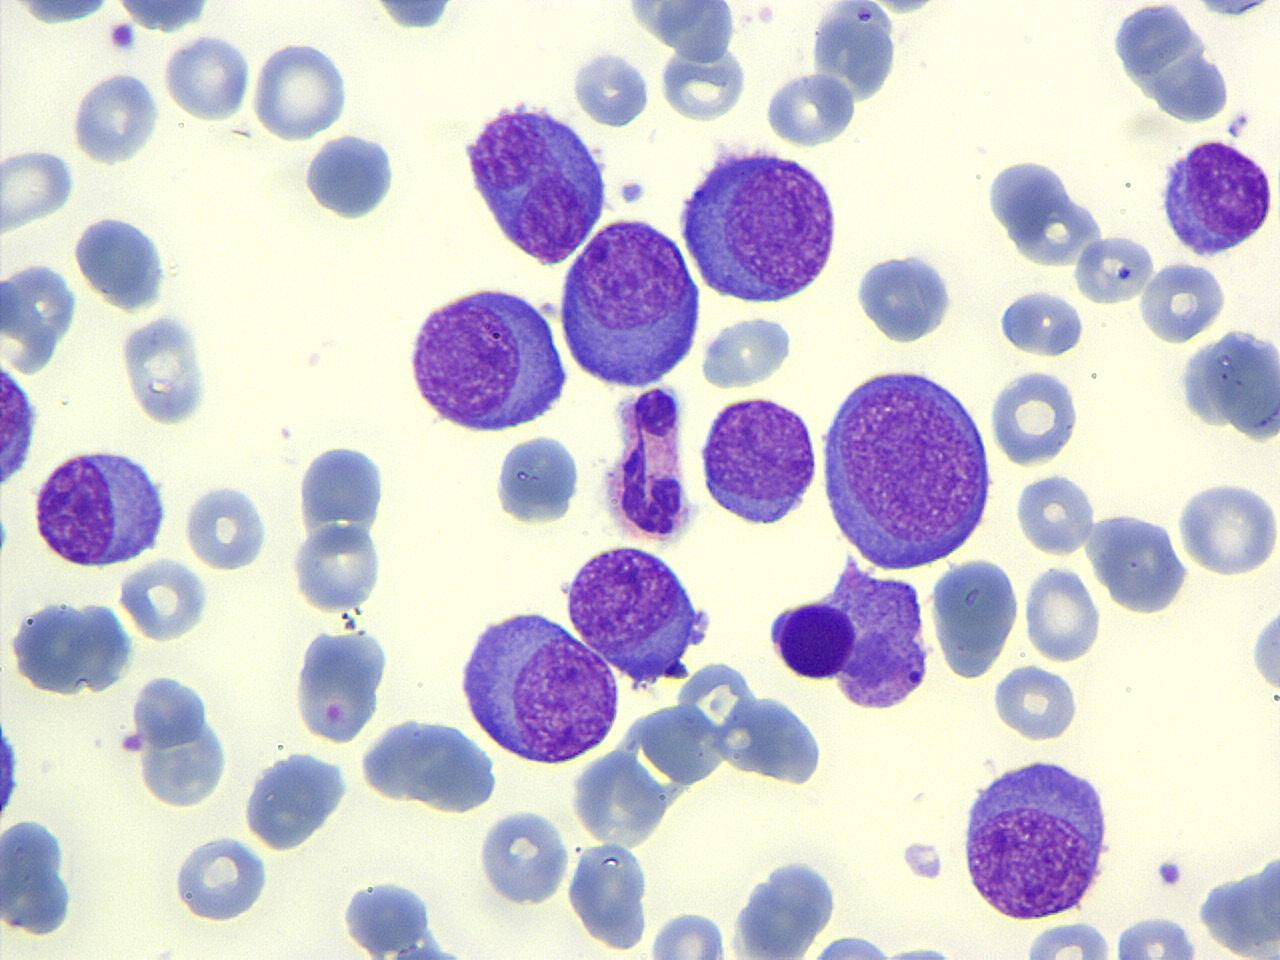Platelets: (164, 33, 258, 124), (570, 47, 652, 131), (1110, 912, 1208, 958), (1248, 596, 1280, 702), (0, 712, 23, 830), (1190, 1, 1280, 22), (106, 18, 138, 55), (1154, 854, 1186, 890), (872, 0, 934, 17), (615, 176, 647, 207), (117, 729, 145, 756), (0, 510, 13, 557)
RBC: (291, 620, 388, 752), (246, 742, 350, 852), (170, 828, 278, 932), (248, 37, 352, 143), (119, 310, 214, 426), (1173, 475, 1279, 577), (986, 366, 1083, 468), (0, 256, 81, 379), (476, 805, 570, 908), (288, 518, 385, 614), (180, 478, 272, 574), (160, 32, 253, 124), (1022, 560, 1104, 664), (654, 38, 752, 125), (116, 556, 212, 642), (766, 592, 856, 682), (696, 310, 796, 389), (1136, 258, 1228, 343), (762, 70, 858, 150), (1014, 469, 1098, 559), (992, 659, 1080, 742), (995, 286, 1087, 359), (0, 145, 78, 232), (1071, 231, 1155, 306), (1108, 910, 1208, 958), (645, 908, 731, 958), (1018, 918, 1116, 958)
WBC: (813, 361, 998, 574), (674, 138, 846, 309), (766, 546, 936, 716), (454, 603, 622, 768), (956, 751, 1118, 923), (457, 94, 612, 269), (401, 278, 572, 437), (553, 213, 706, 390), (559, 538, 714, 688), (29, 440, 174, 572), (597, 378, 700, 548), (694, 390, 822, 527), (1106, 2, 1238, 130), (126, 668, 237, 814), (1154, 132, 1278, 260), (981, 151, 1109, 272), (3, 595, 139, 701), (360, 712, 501, 814), (927, 548, 1028, 681), (289, 621, 394, 747), (725, 852, 845, 959), (1175, 325, 1280, 446), (241, 746, 353, 854), (1083, 508, 1193, 616), (294, 436, 391, 555), (806, 0, 902, 117), (850, 245, 958, 348), (117, 309, 211, 428), (1174, 474, 1280, 578), (70, 212, 175, 314), (564, 837, 656, 953), (0, 813, 82, 939), (68, 64, 166, 167), (1, 255, 85, 377), (986, 366, 1084, 469), (299, 128, 404, 225), (1195, 844, 1280, 960), (474, 806, 569, 908), (171, 831, 273, 926), (338, 875, 447, 958), (492, 431, 583, 530), (160, 29, 256, 123), (656, 33, 752, 126), (767, 589, 860, 683), (698, 308, 800, 390), (1136, 256, 1230, 344), (619, 2, 744, 67), (764, 71, 862, 150), (570, 44, 652, 132), (996, 286, 1089, 361), (1, 349, 43, 511), (1108, 911, 1208, 958), (104, 0, 224, 34), (1248, 588, 1280, 706), (3, 0, 121, 31), (1, 700, 25, 836), (366, 1, 459, 33)
